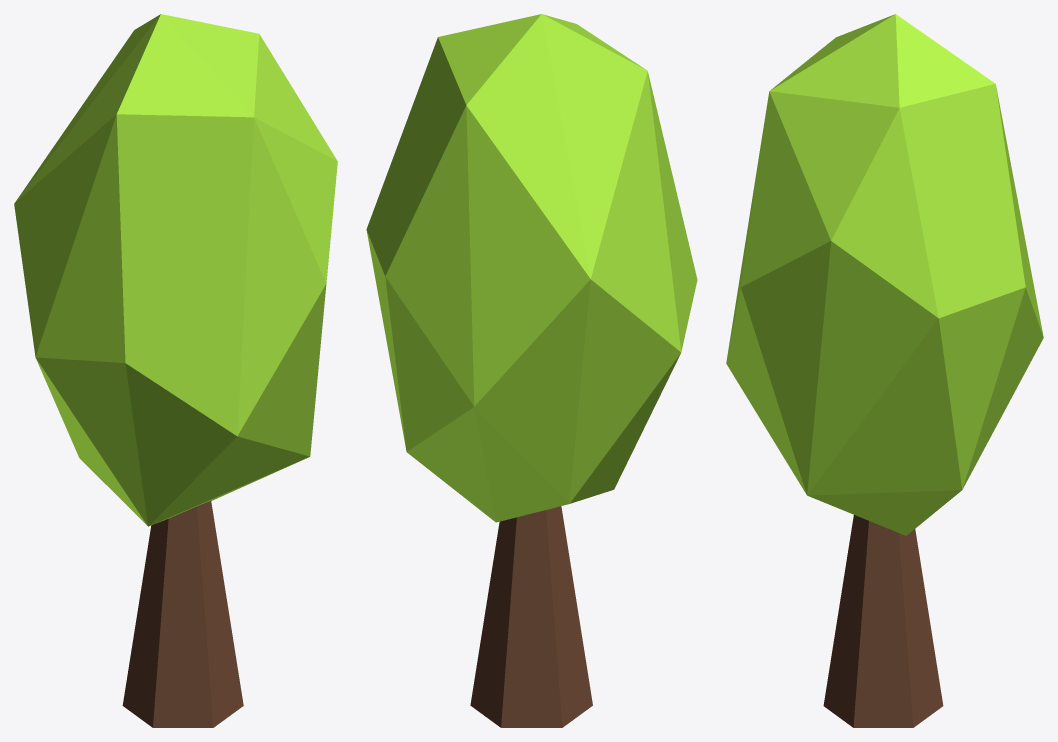
Rendered from Natures_Bush_01.glb.
The picture shows the model from 3 angles, left to right: view 1: azimuth 30°, elevation 25°; view 2: azimuth 150°, elevation 25°; view 3: azimuth 270°, elevation 25°; orthographic projection. The views are drawn at different scales.
Parts seen in each view (by area): view 1: Natures_Bush_01; view 2: Natures_Bush_01; view 3: Natures_Bush_01.
Part boxes in pixels (left/top/right/bottom): Natures_Bush_01: left=14, top=14, right=337, bottom=727; Natures_Bush_01: left=366, top=14, right=697, bottom=727; Natures_Bush_01: left=726, top=14, right=1043, bottom=727.
Size of the model in its own units: 1.32 by 3.07 by 1.29.
1 material, 1 textured.
